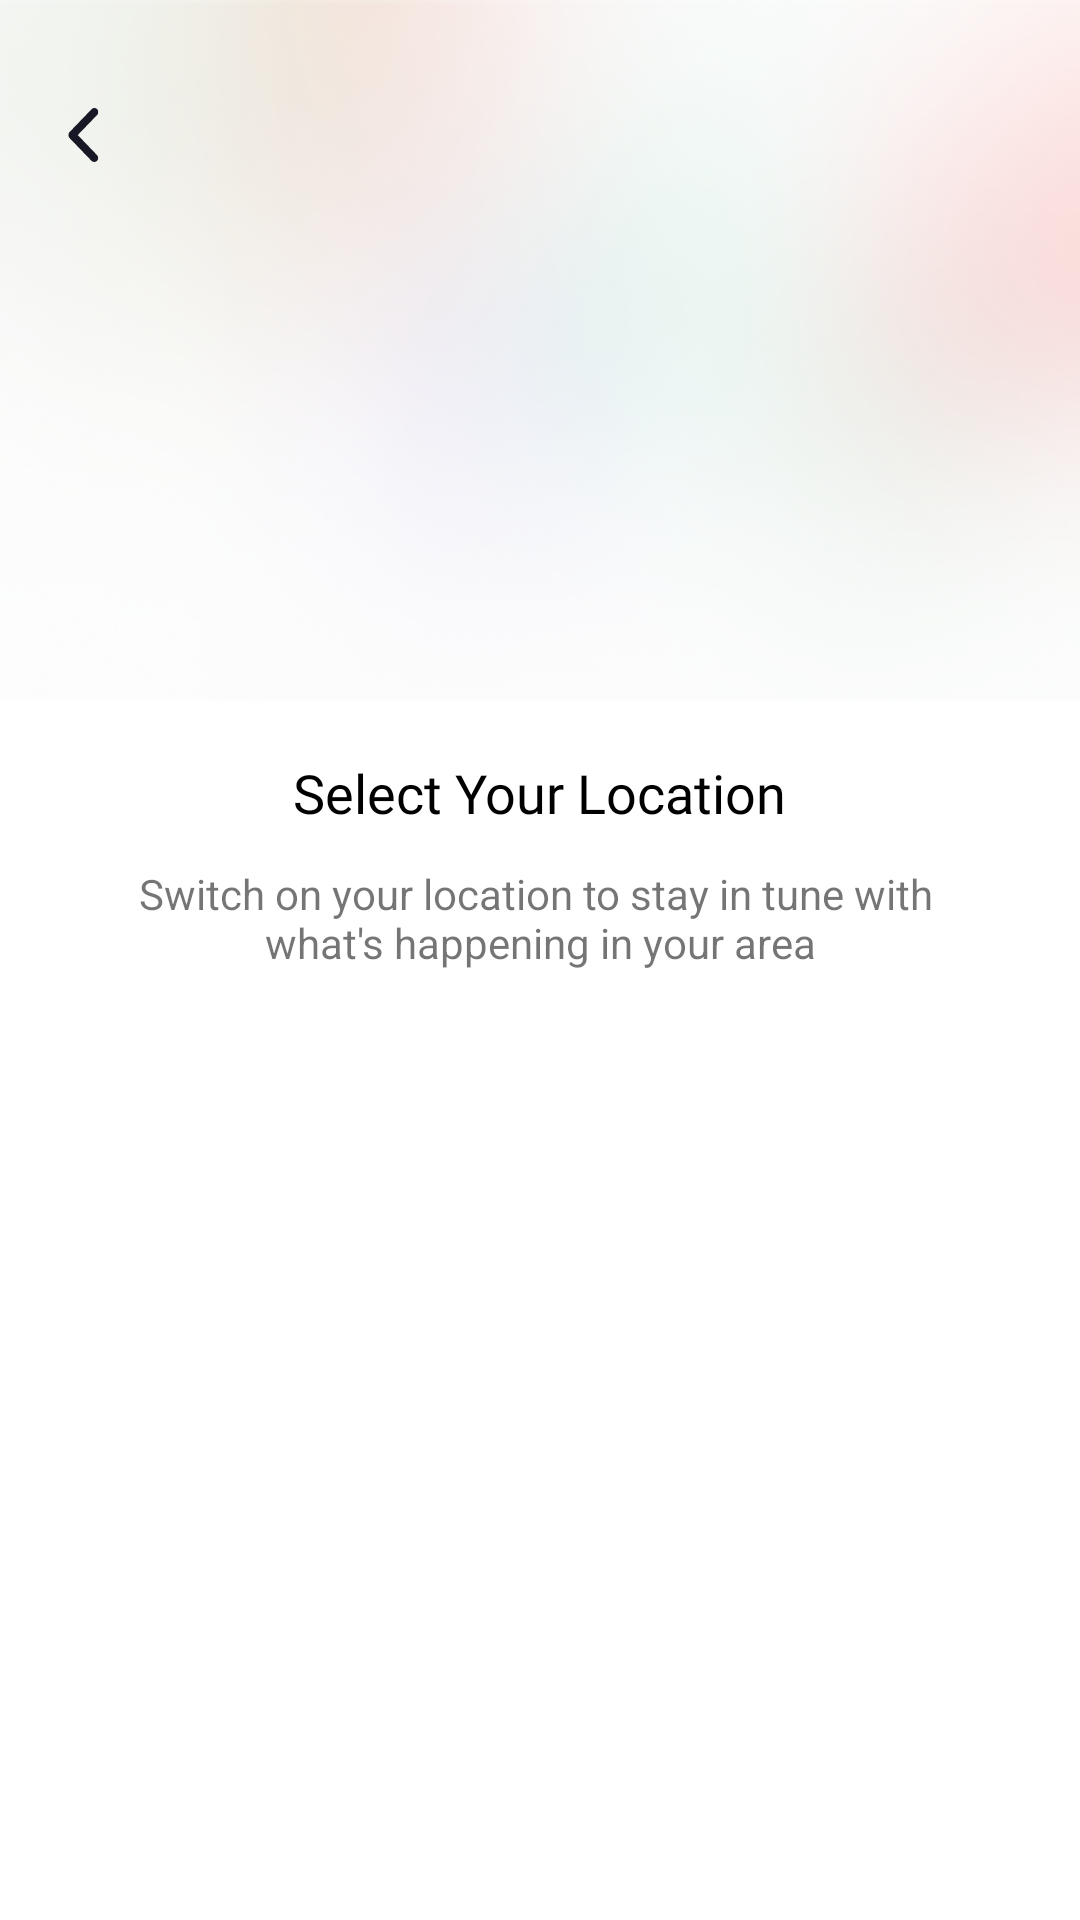

Icon bounding boxes for this 1080w x 1920h phone screenshot, format (x1, y1, x2, y2):
left: (68, 108, 98, 162)
